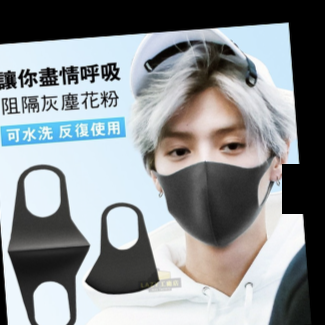with_mask: (153, 120, 271, 249)
